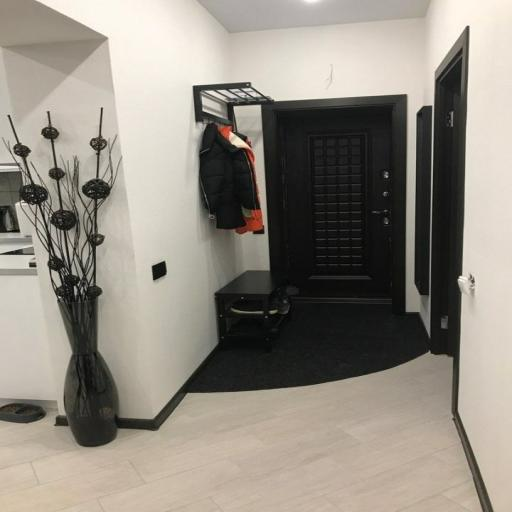corridor: (279, 105, 397, 301)
curb: (143, 34, 512, 459)
road: (208, 260, 307, 352)
